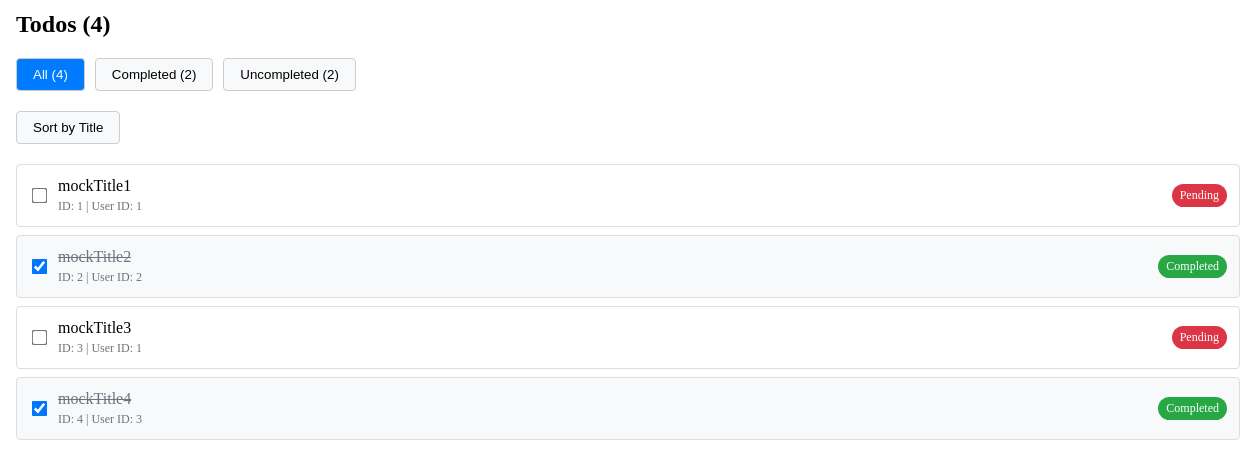
Scenario: Todo component Test › filter completed todos
Click the button "Completed (2)": coordinates (154, 74) [95,58,213,91]
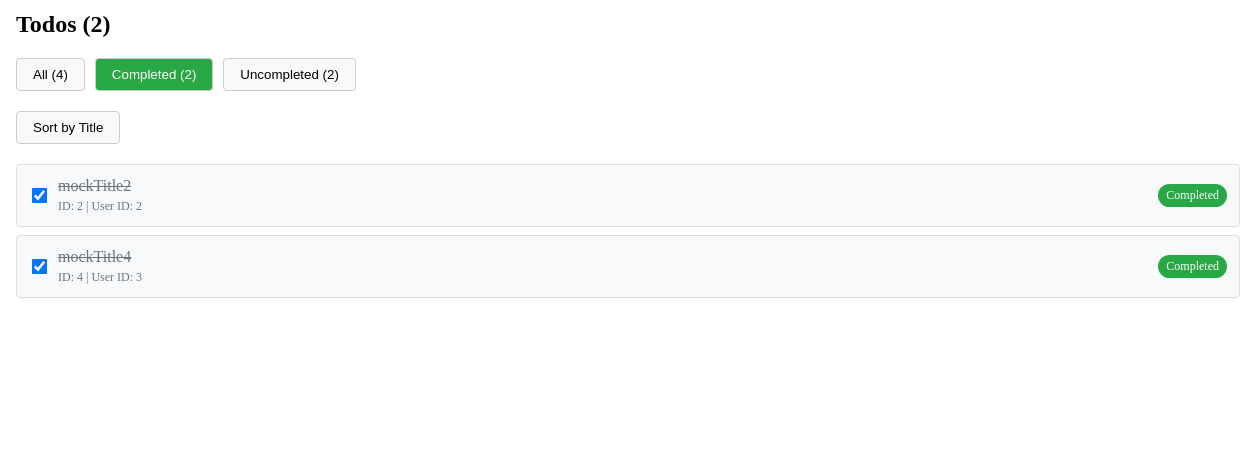
Check: the text "mockTitle2" is shown, box [58,177,131,194]
Check: the text "mockTitle1" is gone
Check: the text "mockTitle3" is gone
